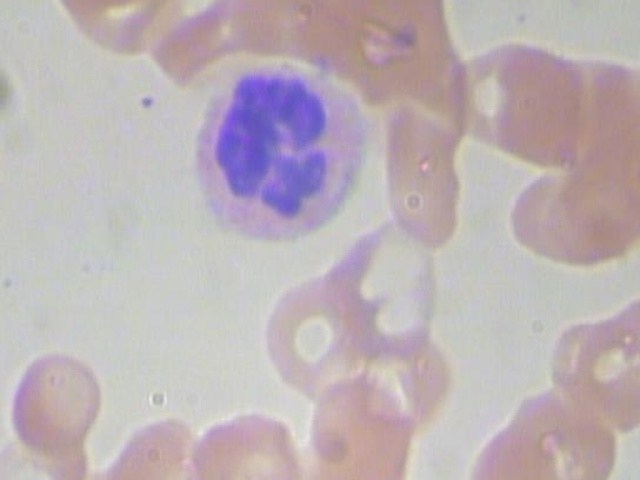RBC: (380, 106, 477, 250), (291, 376, 421, 480), (500, 380, 624, 480), (263, 277, 361, 394), (9, 341, 106, 453), (173, 400, 305, 480), (0, 416, 96, 480)
WBC: (170, 55, 379, 253)
